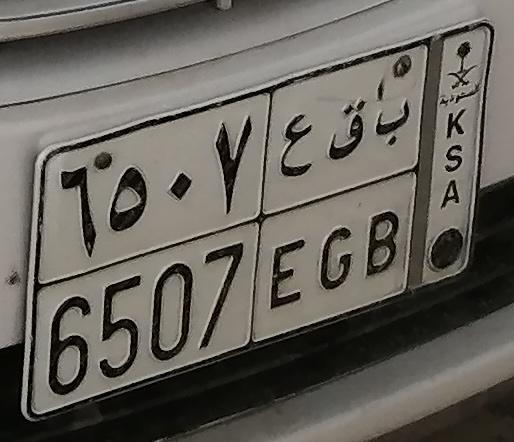0: (147, 166, 198, 364)
5: (98, 160, 150, 378)
6: (45, 159, 99, 400)
7: (196, 109, 258, 350)
B: (362, 98, 411, 280)
E: (264, 111, 317, 317)
G: (314, 97, 367, 290)
